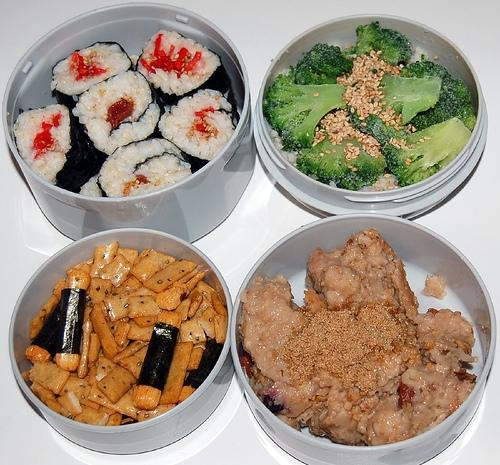broccoli: (262, 66, 348, 152), (347, 69, 442, 146), (400, 54, 477, 132), (384, 117, 471, 186), (297, 132, 386, 189), (342, 21, 412, 66), (296, 42, 354, 84)
